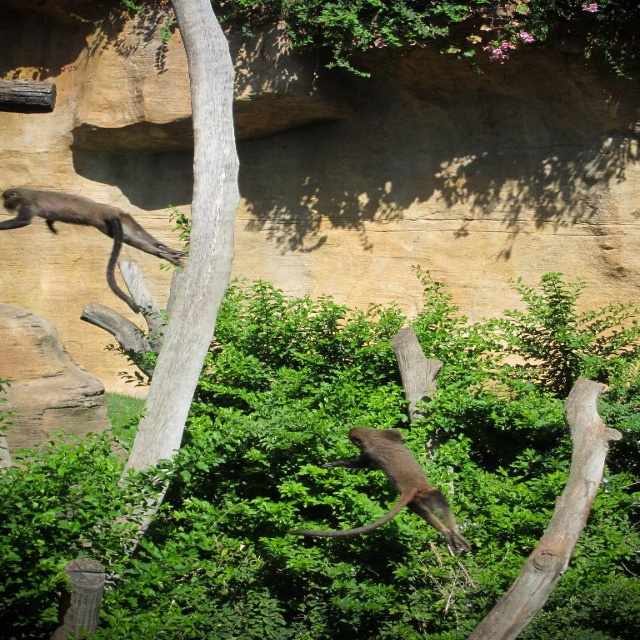Monkey: (0, 183, 191, 319), (342, 430, 469, 562)
